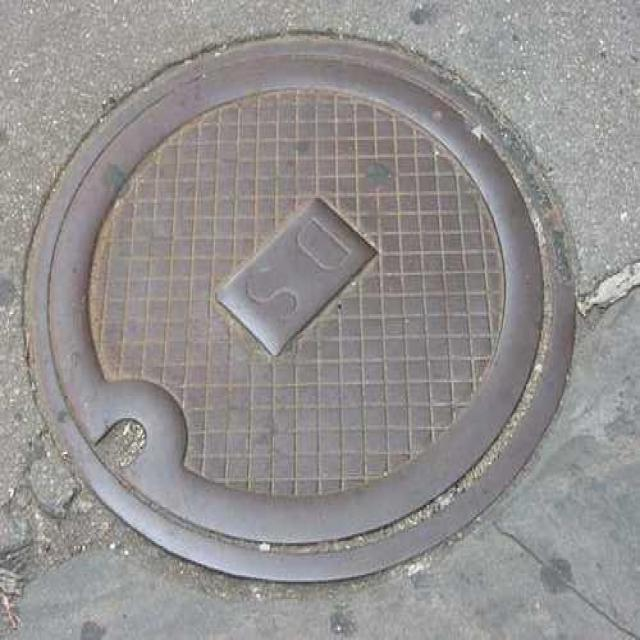manhole: (25, 35, 573, 581)
